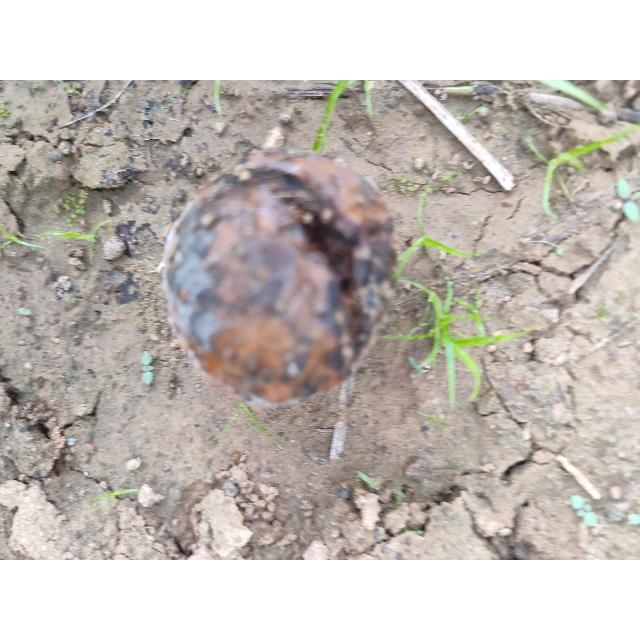damaged: (159, 150, 399, 406)
